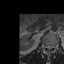CCS_normal: (48, 43, 50, 52)
LFS_normal: (52, 44, 54, 49)
LLS_normal: (50, 43, 52, 50)
RFS_normal: (44, 43, 46, 49)
RLS_normal: (46, 43, 48, 50)
